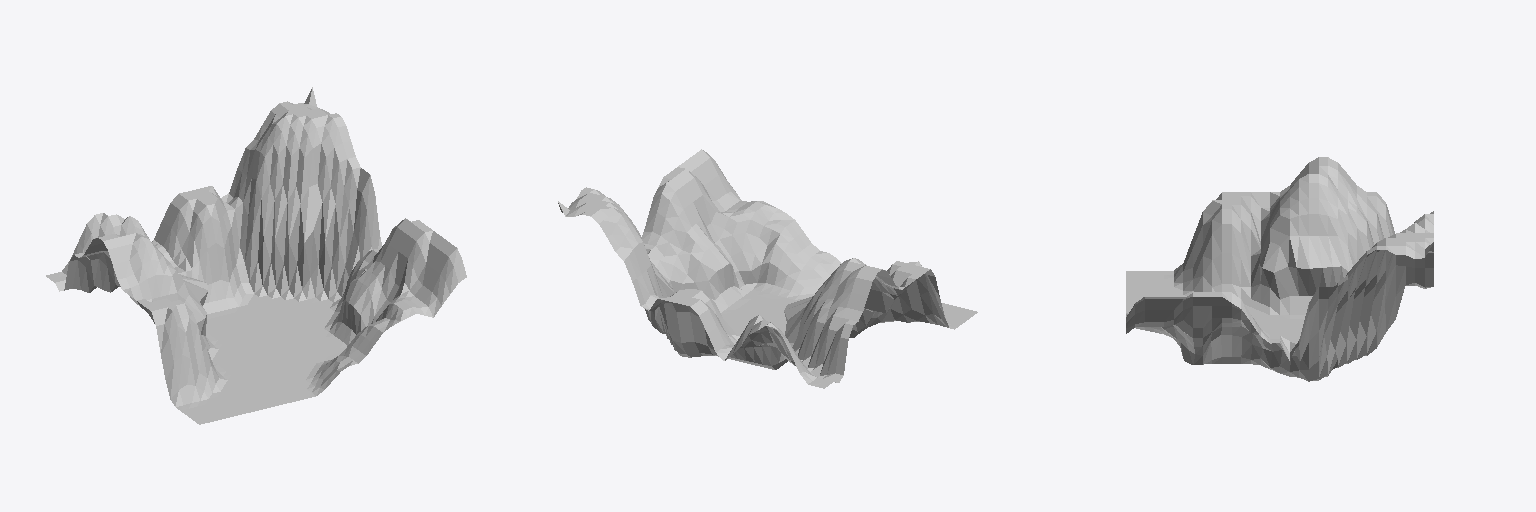
The model's file is starting_land.obj.
3 views of the same model, side by side, from view 1: azimuth 30°, elevation 25°; view 2: azimuth 150°, elevation 25°; view 3: azimuth 270°, elevation 25° (orthographic).
Visible parts, largest first — view 1: Terrain_Plane.001; view 2: Terrain_Plane.001; view 3: Terrain_Plane.001.
Boxes of the visible parts, x1=… form: Terrain_Plane.001: x1=46, y1=87, x2=466, y2=424; Terrain_Plane.001: x1=558, y1=149, x2=977, y2=388; Terrain_Plane.001: x1=1126, y1=157, x2=1433, y2=381.
Size of the model in its own units: 32 by 18.24 by 32.